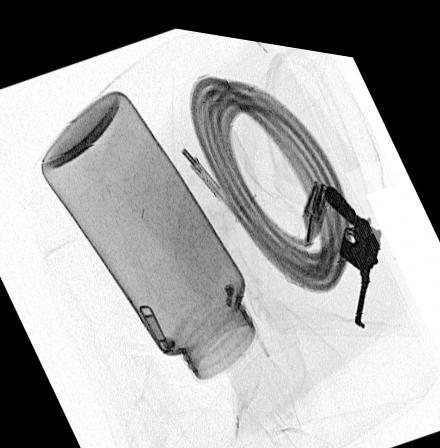Gun: (323, 174, 383, 318)
